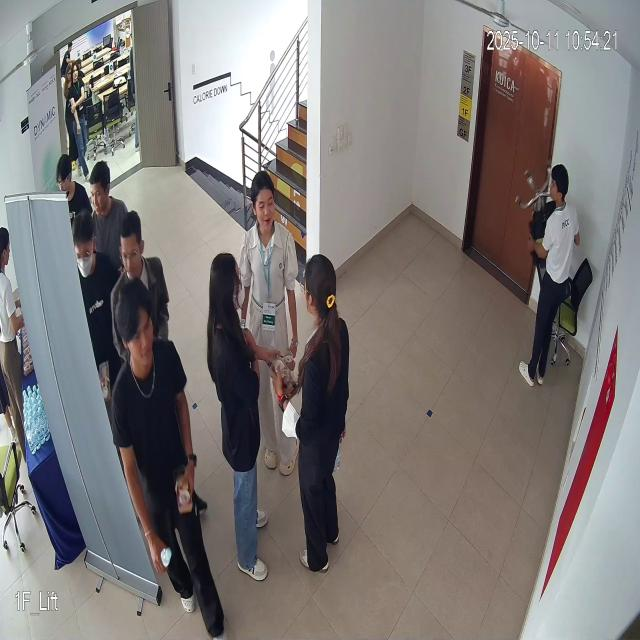face: (246, 162, 286, 243), (113, 210, 151, 287)
